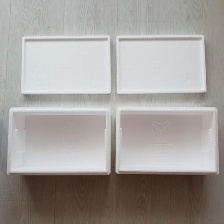foam_box: (2, 104, 113, 178), (113, 104, 222, 177), (113, 30, 213, 97), (17, 31, 113, 98)
